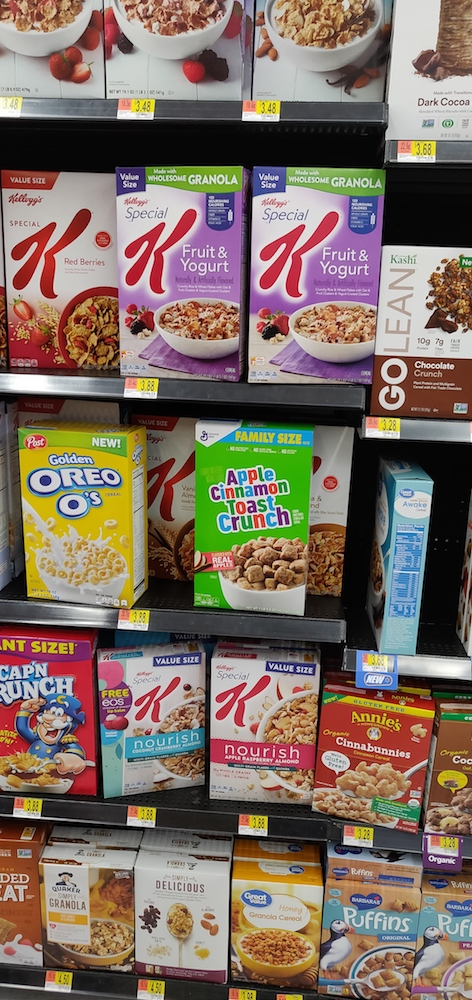Oreo Golden-568301011: (23, 425, 140, 603)
